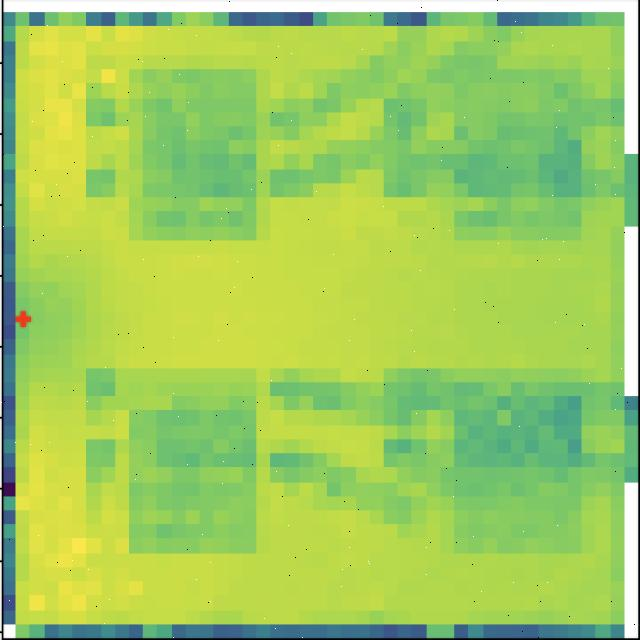Concrete: (446, 373, 577, 546)
Glass: (128, 369, 258, 554)
Metal: (452, 46, 586, 245)
Wood: (126, 61, 264, 245)
